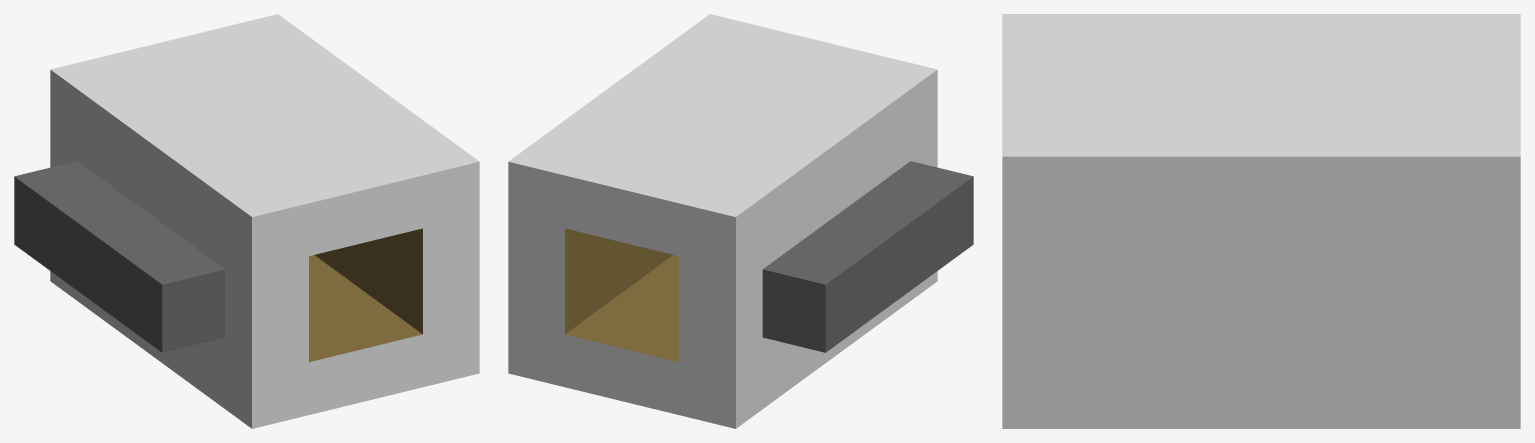
The model's file is toiletPaper.fbx.
The picture shows the model from 3 angles, left to right: view 1: azimuth 30°, elevation 25°; view 2: azimuth 150°, elevation 25°; view 3: azimuth 270°, elevation 25°; orthographic projection. The views are drawn at different scales.
Visible parts, largest first — view 1: toiletPaper; view 2: toiletPaper; view 3: toiletPaper.
Boxes of the visible parts, left/top/right/bottom form: toiletPaper: left=14, top=14, right=479, bottom=428; toiletPaper: left=508, top=14, right=973, bottom=428; toiletPaper: left=1002, top=14, right=1520, bottom=428.
Bounding box in the file's own units: 44.27 × 30.83 × 53.23.
